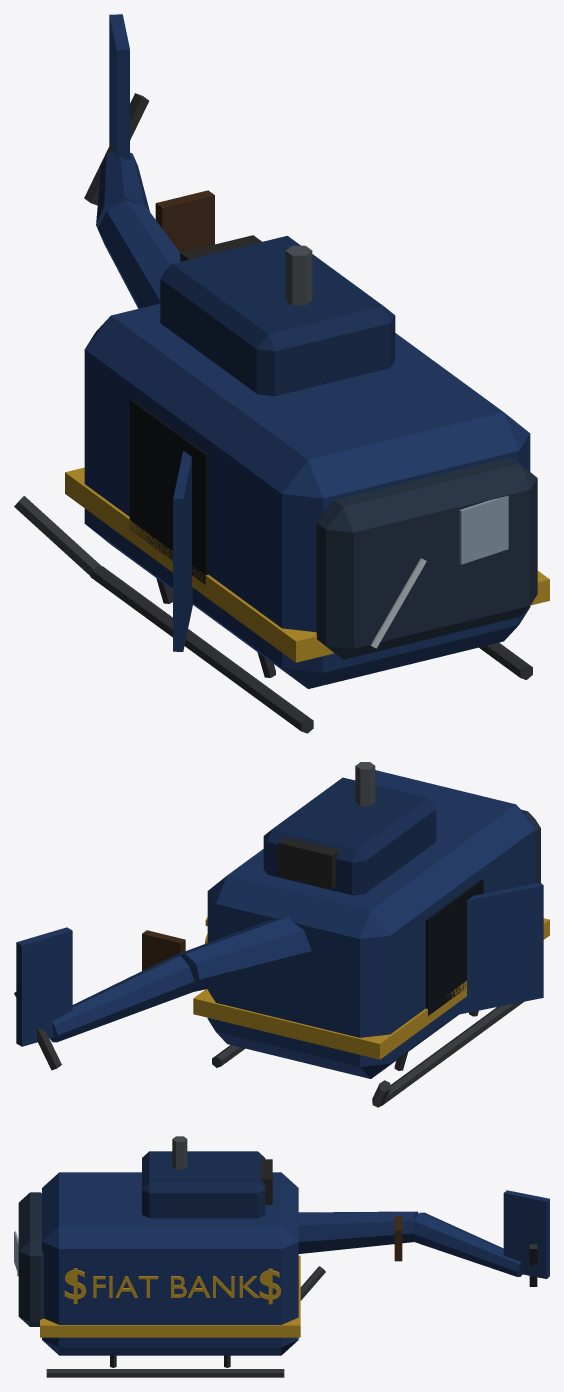
File: heli_wreck.glb
The picture shows the model from 3 angles, top to bottom: view 1: azimuth 30°, elevation 25°; view 2: azimuth 150°, elevation 25°; view 3: azimuth 270°, elevation 25°; orthographic projection. The views are drawn at different scales.
Parts seen in each view (by area): view 1: heli_wreck; view 2: heli_wreck; view 3: heli_wreck.
Boxes of the visible parts, box(x1,y1,x2,y2) form: heli_wreck: box(14, 14, 549, 733); heli_wreck: box(14, 762, 549, 1107); heli_wreck: box(14, 1136, 549, 1377).
Size of what is drawn, in the model's own units: 2.36 by 2.42 by 5.64.
